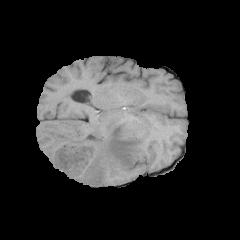glioma: (41, 119, 142, 185)
